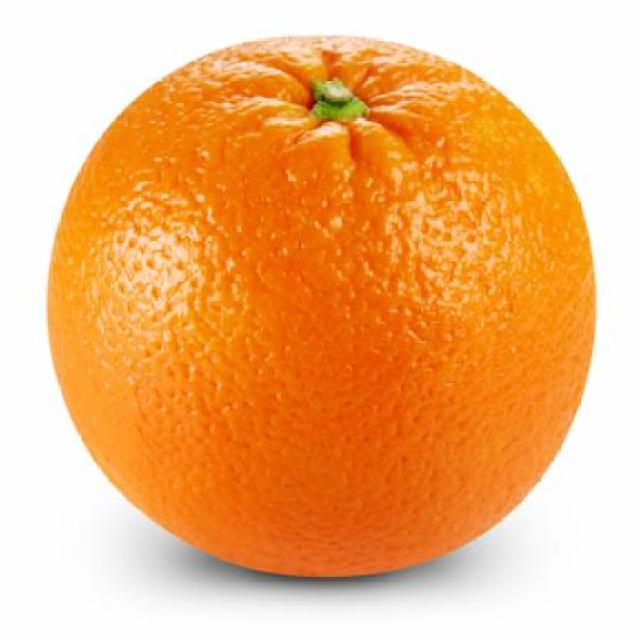Orange: (44, 32, 598, 580)
